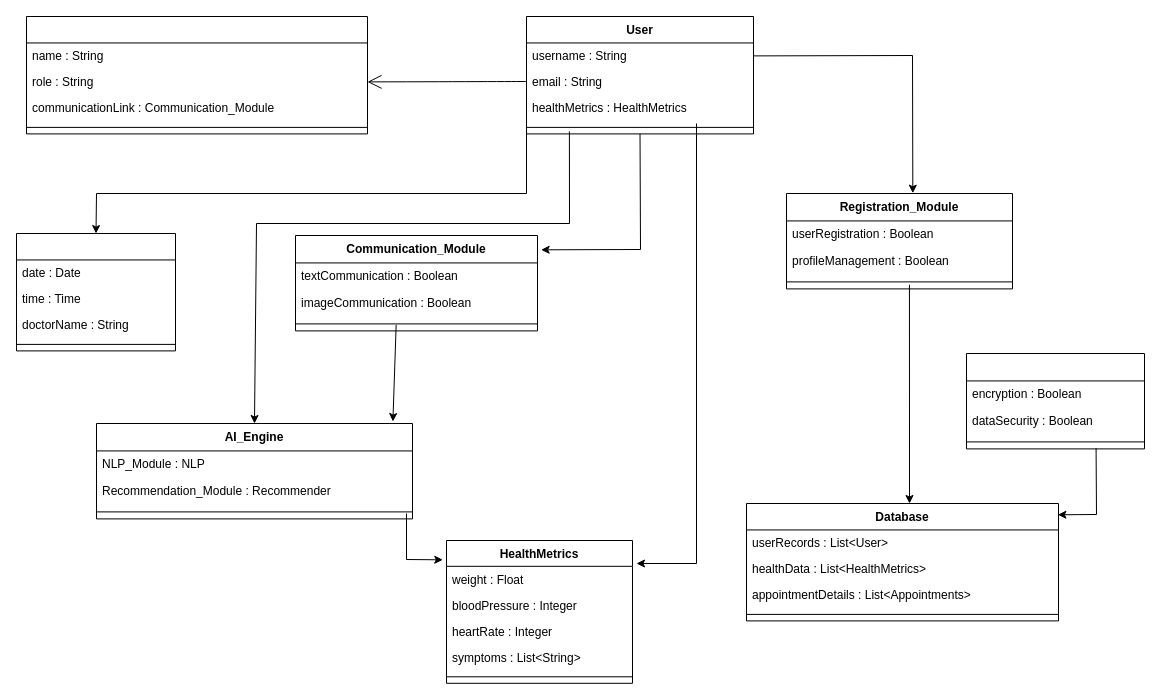
The diagram is 1161 pixels wide and 700 high, and some of its shapes have lost their labels. Each missing label, with the box of its shape:
Appointments: (16, 232, 176, 351)
Hospital_Staff: (26, 16, 368, 134)
Security_Module: (966, 352, 1144, 449)
